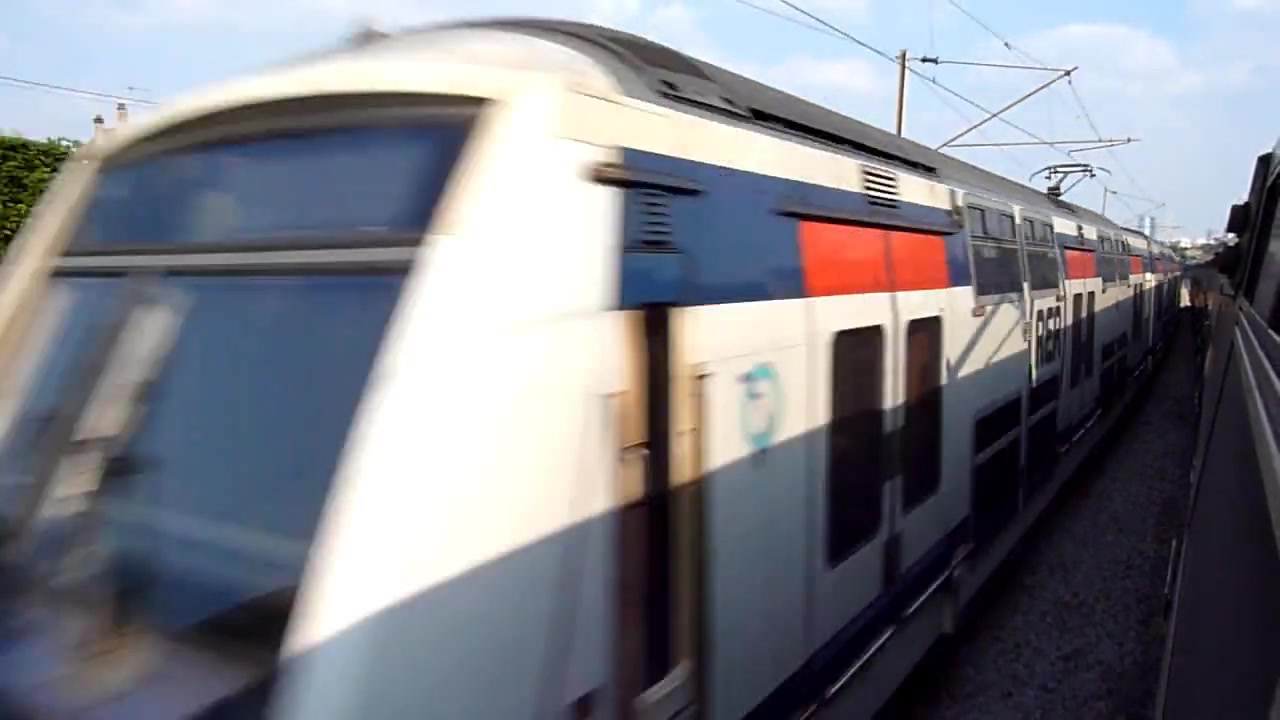train: (1, 18, 1190, 720)
